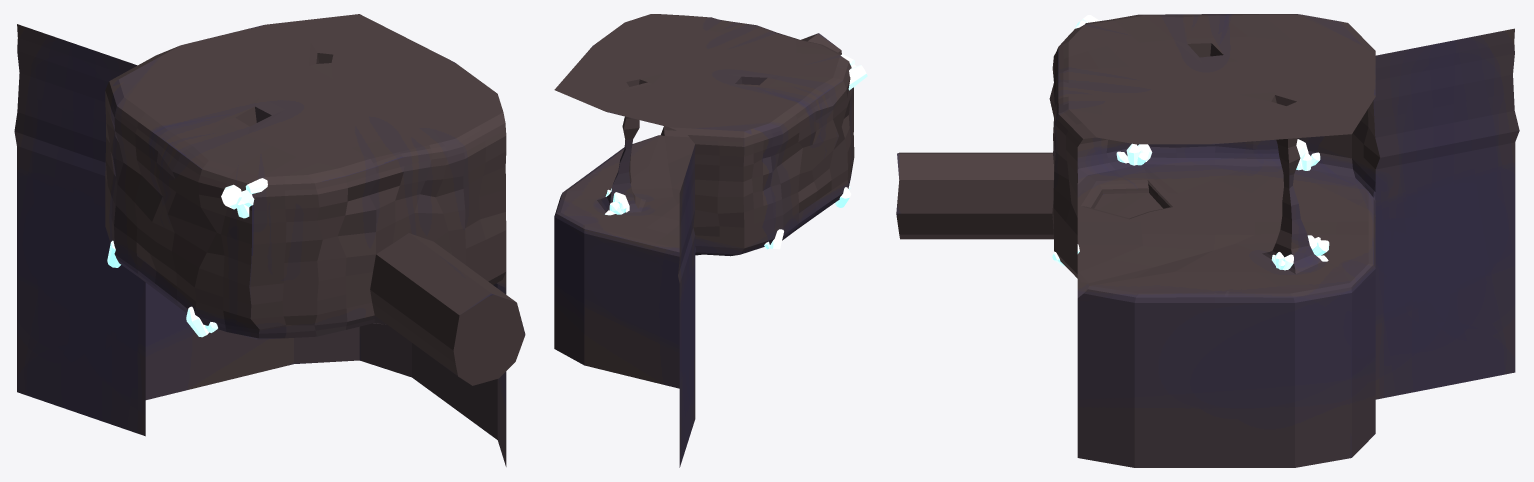
File: Cave.fbx
The picture shows the model from 3 angles, left to right: view 1: azimuth 30°, elevation 25°; view 2: azimuth 150°, elevation 25°; view 3: azimuth 270°, elevation 25°; orthographic projection. The views are drawn at different scales.
Visible parts, largest first — view 1: Cave_Sub, Crystal2; view 2: Cave_Sub, Crystal2, Crystal6; view 3: Cave_Sub.
Boxes of the visible parts, x1=… form: Cave_Sub: x1=14, y1=14, x2=525, y2=466; Crystal2: x1=221, y1=178, x2=267, y2=218; Cave_Sub: x1=554, y1=14, x2=854, y2=467; Crystal2: x1=840, y1=54, x2=867, y2=90; Crystal6: x1=605, y1=192, x2=629, y2=215; Cave_Sub: x1=896, y1=14, x2=1519, y2=467.
Bounding box in the file's own units: 11722 × 13920 × 21947.
